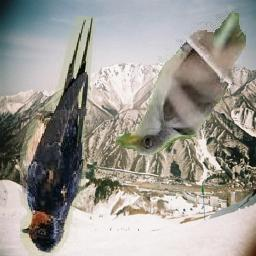Cuckoo: (116, 7, 246, 156)
Swallow: (20, 16, 96, 256)
